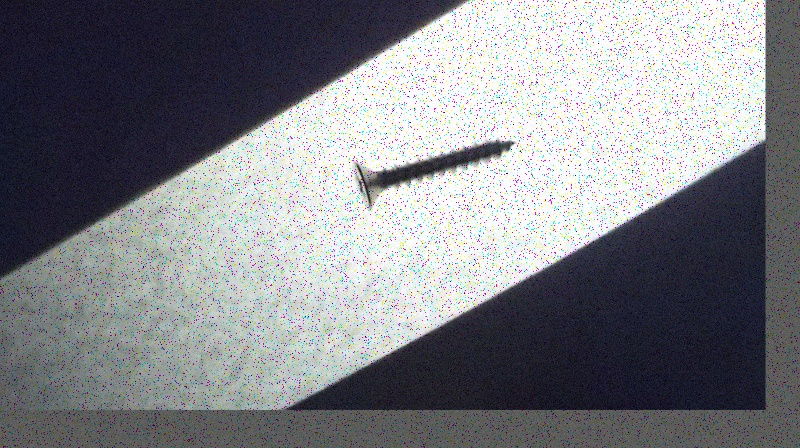S001: (347, 132, 517, 211)
